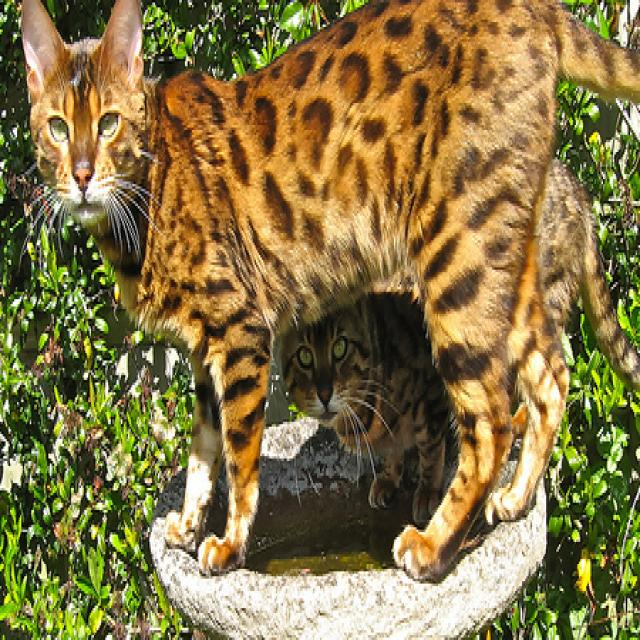Bengal: (18, 0, 640, 603)
